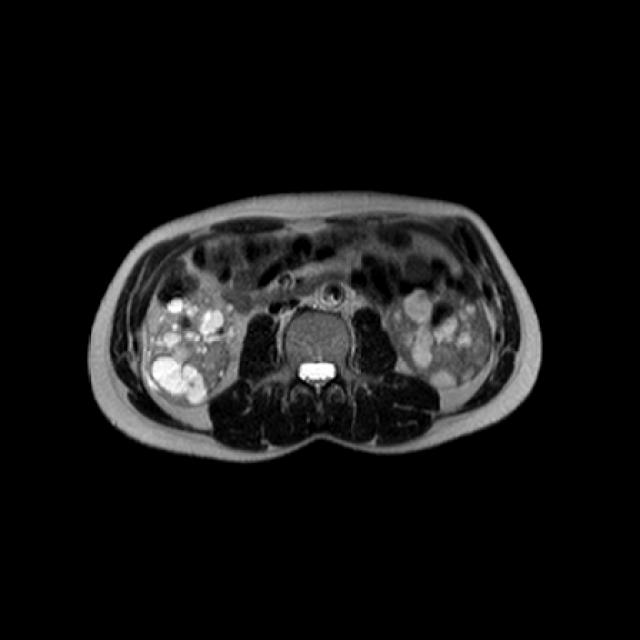sag: (144, 289, 238, 408)
sol: (381, 286, 493, 388)
